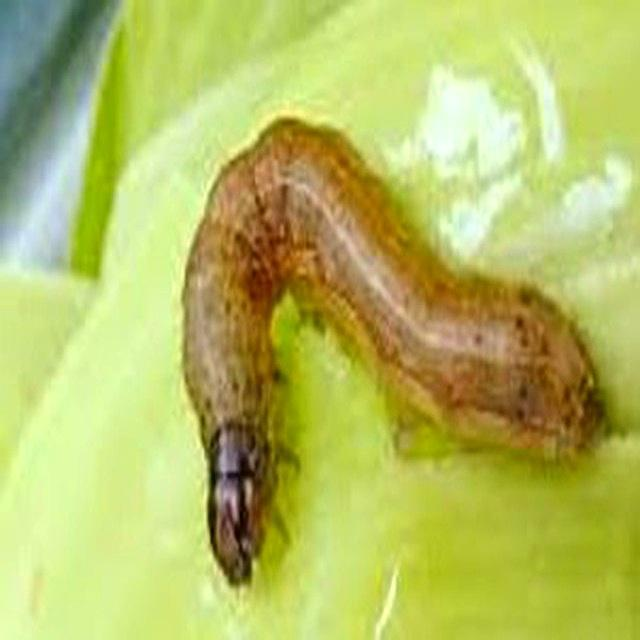gusano_cogollero: (172, 105, 610, 599)
